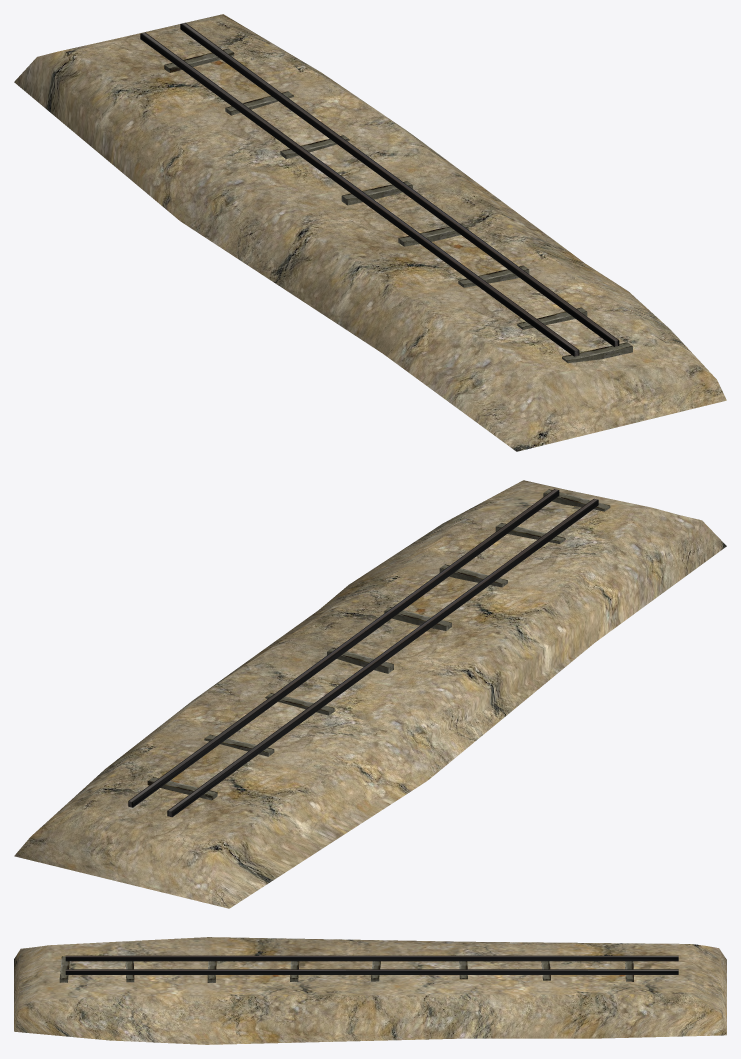
File: pir_m_prp_mng_track_straight.fbx
3 views of the same model, one above another, from view 1: azimuth 30°, elevation 25°; view 2: azimuth 150°, elevation 25°; view 3: azimuth 270°, elevation 25° (orthographic). The views are drawn at different scales.
Parts seen in each view (by area): view 1: mound, rail, rail_1, pCube19; view 2: mound, rail_1, rail; view 3: mound, rail, rail_1, pCube19.
Part boxes in pixels (<box>): mound: <box>14,14,726,451</box>; rail: <box>140,32,579,356</box>; rail_1: <box>180,22,619,346</box>; pCube19: <box>562,342,632,363</box>; mound: <box>14,480,726,908</box>; rail_1: <box>128,489,559,807</box>; rail: <box>167,498,598,817</box>; mound: <box>14,937,726,1044</box>; rail: <box>65,955,678,961</box>; rail_1: <box>65,969,678,974</box>; pCube19: <box>59,956,69,982</box>.
Bounding box in the file's own units: 1529 × 282 × 5052.
Materials: 2 (2 with a texture image).
